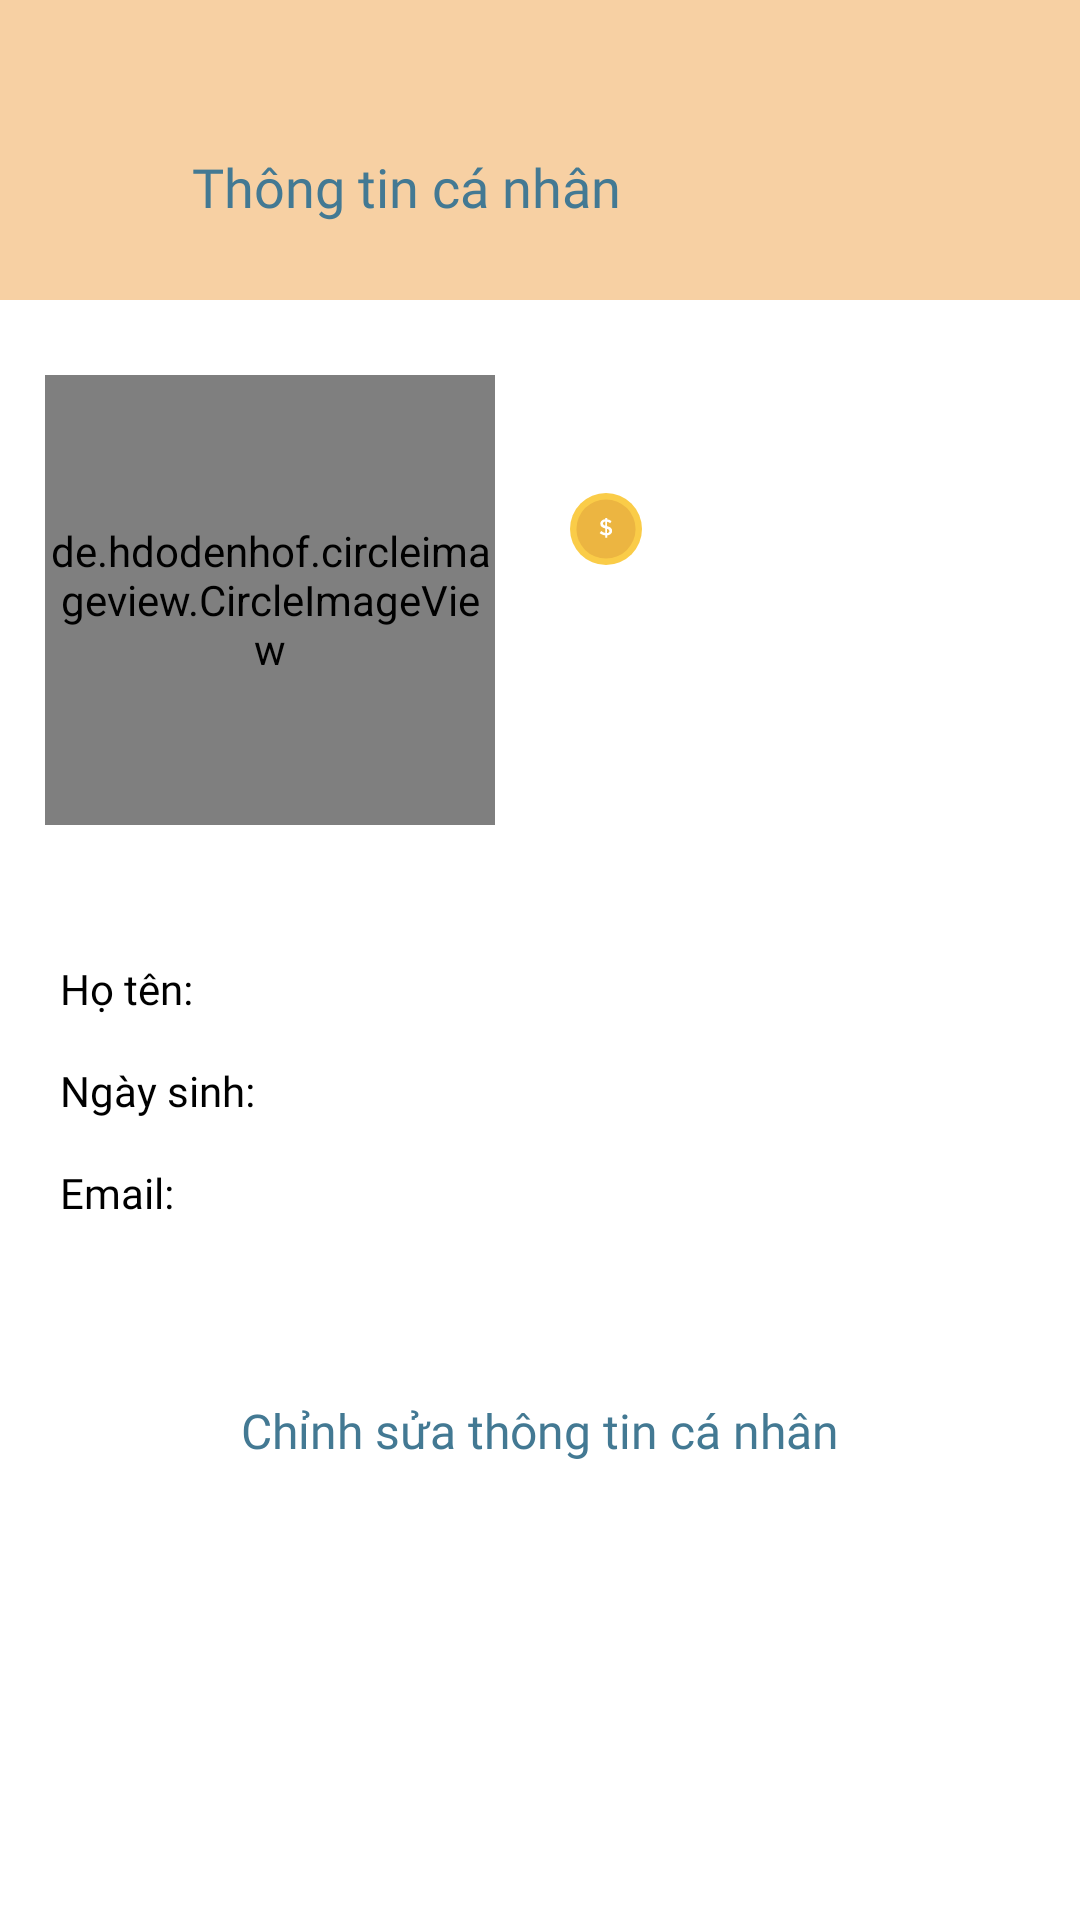

Screen size 1080px x 1920px. Icon name, then its center in pixels as point (x, y):
coin: point (606, 529)
